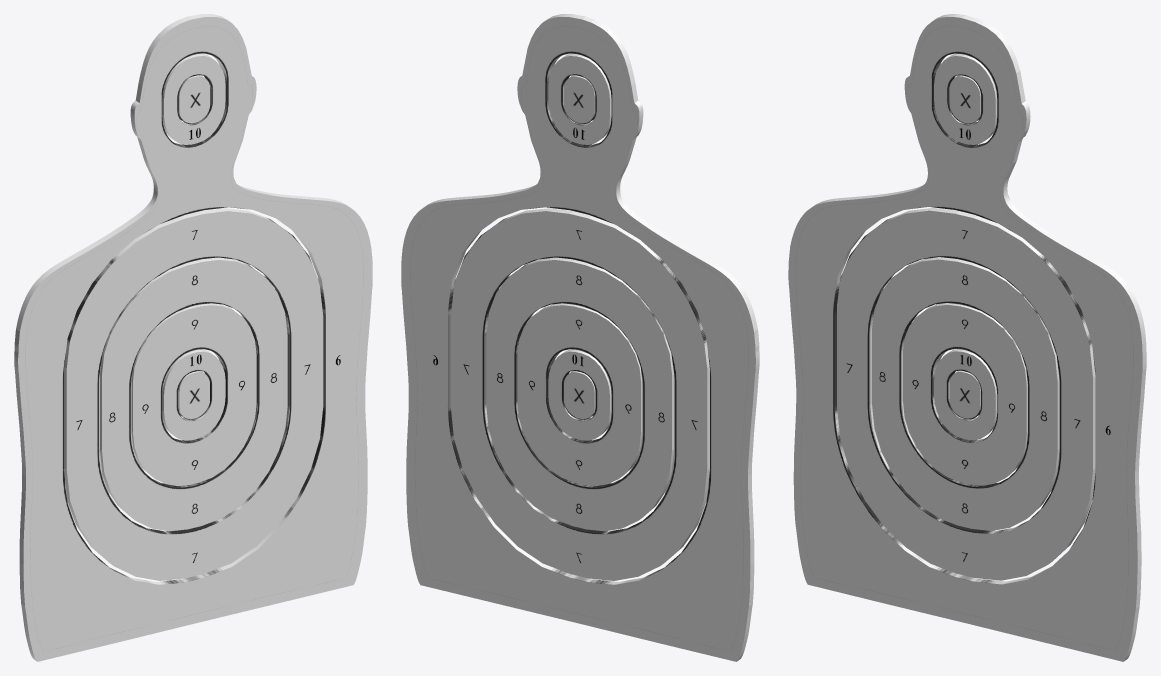
File: Mark_01.FBX
3 views of the same model, side by side, from view 1: azimuth 30°, elevation 25°; view 2: azimuth 150°, elevation 25°; view 3: azimuth 330°, elevation 25° (orthographic).
Visible parts, largest first — view 1: Area_010, Area_011, Area_009, Area_008, A_03, A_04, A_02, A_01; view 2: Area_010, Area_011, Area_009, Area_008, A_03, A_04, A_02, A_01; view 3: Area_010, Area_011, Area_009, Area_008, A_03, A_04, A_01, A_02.
Boxes of the visible parts, box(x1,y1,x2,y2) form: Area_010: box(14, 14, 372, 661); Area_011: box(64, 208, 323, 580); Area_009: box(100, 257, 287, 531); Area_008: box(131, 303, 256, 485); A_03: box(162, 349, 225, 440); A_04: box(162, 53, 225, 144); A_02: box(178, 75, 209, 123); A_01: box(178, 371, 209, 419); Area_010: box(401, 14, 759, 661); Area_011: box(450, 208, 709, 580); Area_009: box(486, 257, 673, 531); Area_008: box(517, 303, 642, 485); A_03: box(548, 349, 611, 440); A_04: box(548, 53, 611, 144); A_02: box(564, 75, 595, 123); A_01: box(564, 371, 595, 419); Area_010: box(788, 14, 1146, 661); Area_011: box(837, 207, 1095, 580); Area_009: box(872, 257, 1059, 530); Area_008: box(903, 303, 1027, 485); A_03: box(934, 349, 997, 440); A_04: box(934, 53, 997, 144); A_01: box(949, 370, 980, 419); A_02: box(949, 75, 980, 123).
Bounding box in the file's own units: 52 × 1 × 84.77.
Materials: 1 (1 with a texture image).
